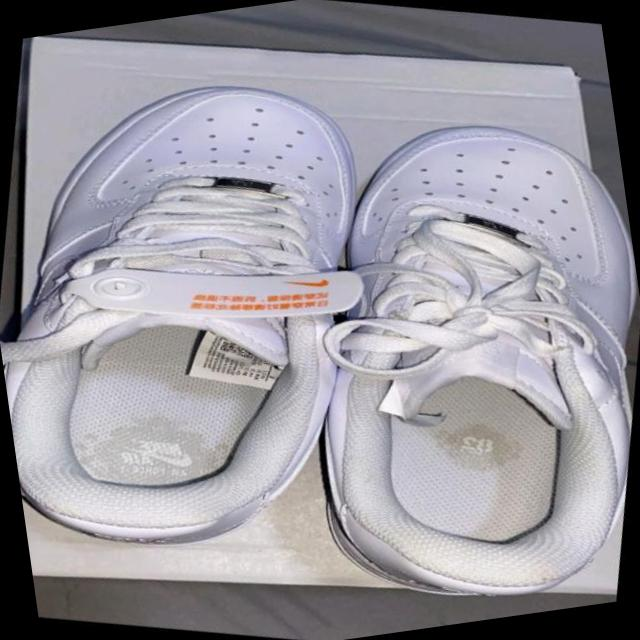nike_fake_airforce: (0, 20, 436, 605), (247, 74, 640, 640)
